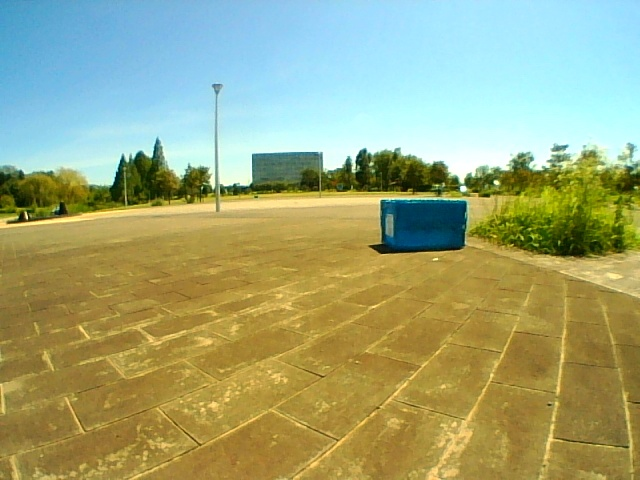blue_box: (382, 201, 466, 249)
tag: (385, 215, 392, 235)
